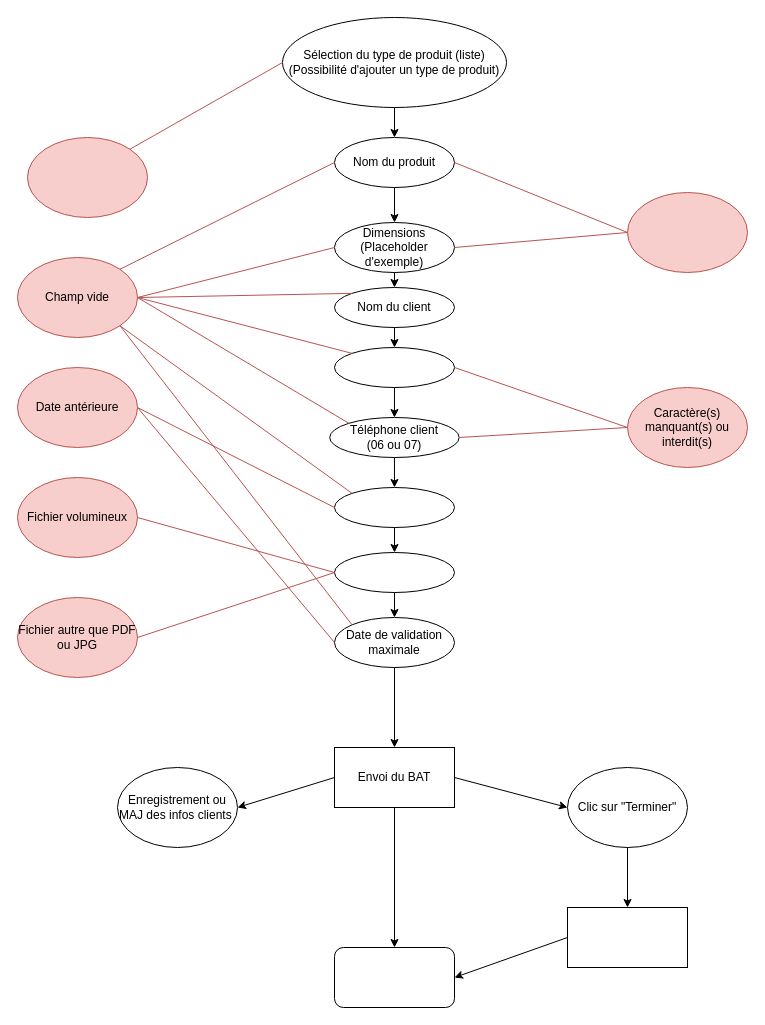
This 765x1025 diagram has some shape labels left out. Each missing label, with the centre of its shape:
Aucune proposition sélectionnée: point 87,177
Date de livraison estimée: point 394,507
Email client: point 394,367
Nombre de caractère(s) trop important: point 687,232
Redirection vers Dashboard "BAT en attente": point 627,937
Téléchargement de la preuve d'envoi: point 394,977
Upload fichier: point 394,572
